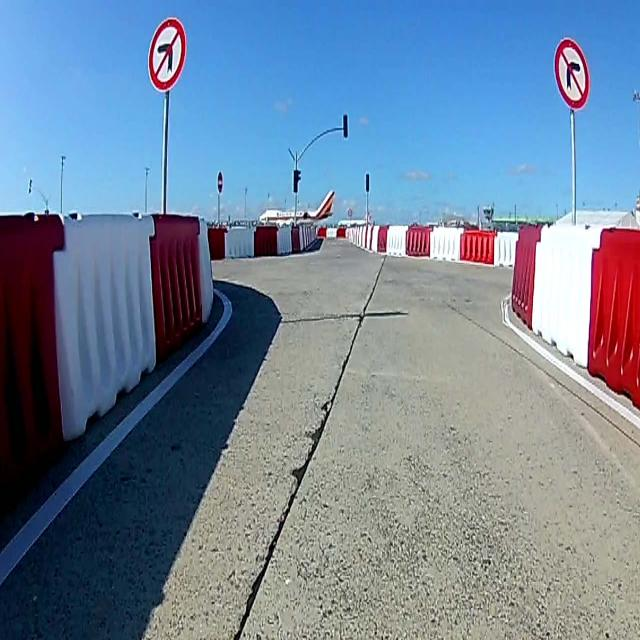sagadonulmez: (555, 38, 591, 110)
soladonulmez: (148, 19, 184, 88)
